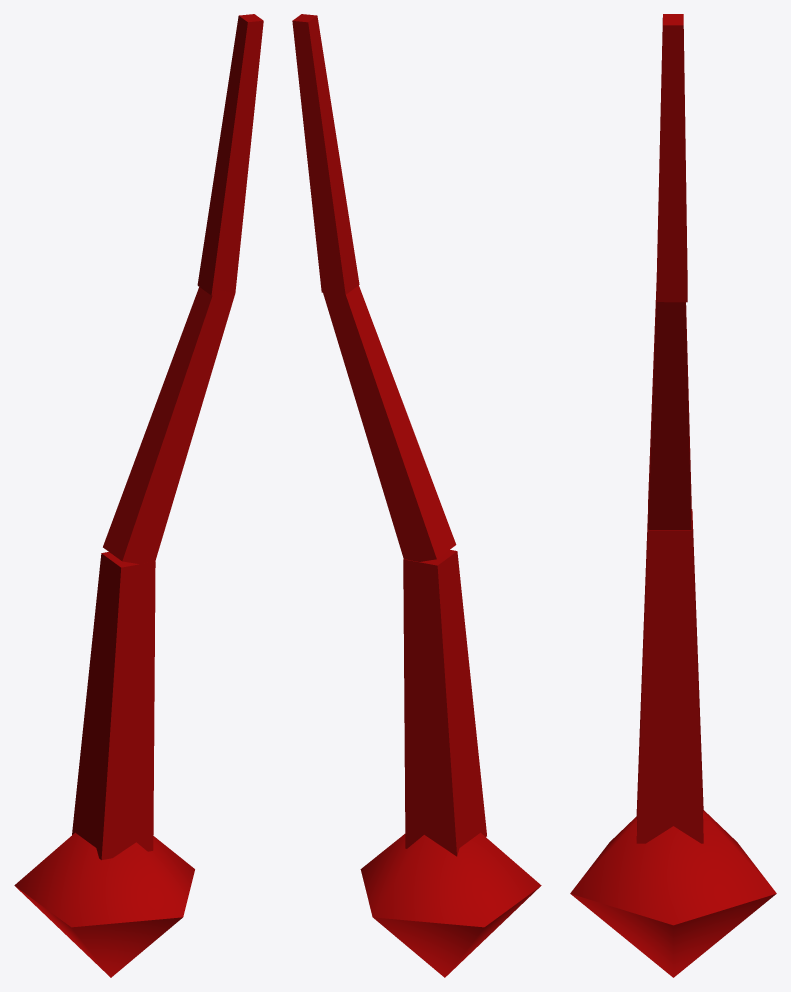
File: SM_Env_Tree_Palm_01_Collision.glb
3 views of the same model, side by side, from view 1: azimuth 30°, elevation 25°; view 2: azimuth 150°, elevation 25°; view 3: azimuth 270°, elevation 25° (orthographic). The views are drawn at different scales.
Visible parts, largest first — view 1: SM_Env_Tree_Palm_01_Collision; view 2: SM_Env_Tree_Palm_01_Collision; view 3: SM_Env_Tree_Palm_01_Collision.
Boxes of the visible parts, <box> form: SM_Env_Tree_Palm_01_Collision: <box>14,14,263,977</box>; SM_Env_Tree_Palm_01_Collision: <box>292,14,541,977</box>; SM_Env_Tree_Palm_01_Collision: <box>570,14,776,977</box>.
Bounding box in the file's own units: 1.64 × 6.72 × 1.22.
